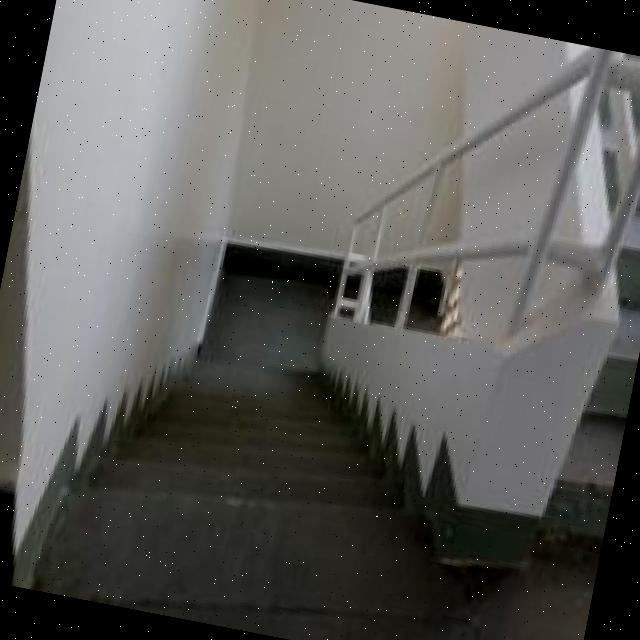stairs: (283, 6, 640, 589)
